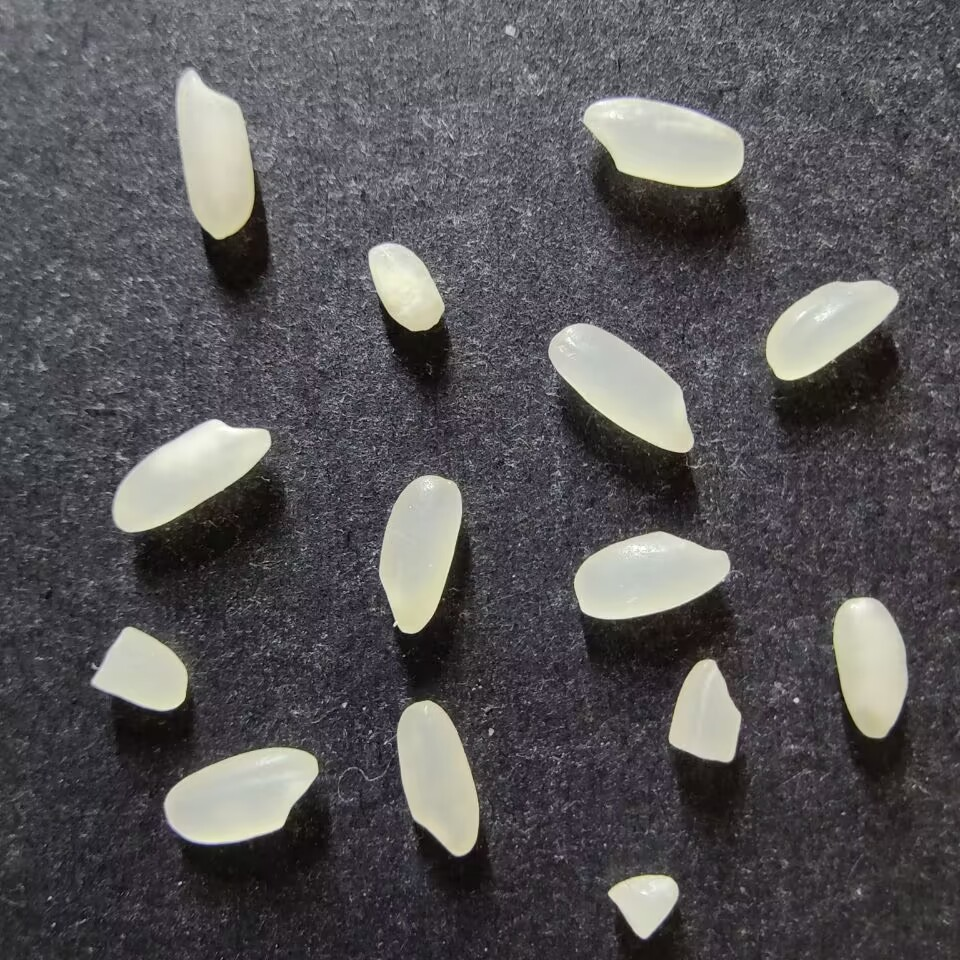broken: (90, 626, 193, 711), (667, 658, 741, 763), (367, 242, 444, 331), (607, 874, 680, 939)
rice: (547, 322, 694, 454), (111, 418, 272, 532), (163, 747, 320, 844), (583, 97, 745, 187), (174, 68, 255, 240), (573, 531, 731, 619), (765, 279, 899, 381), (377, 474, 462, 634), (396, 700, 479, 857), (832, 597, 908, 739)
